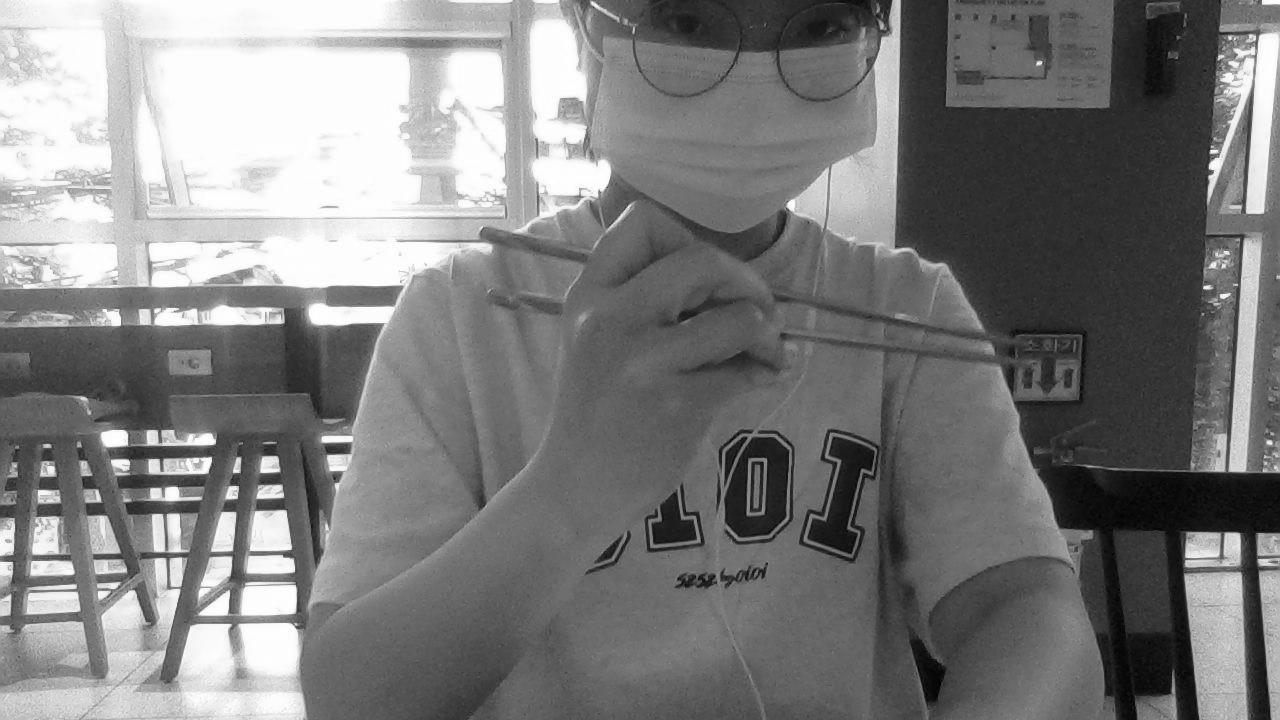chopstick: (480, 229, 1029, 349), (487, 290, 1031, 371)
hand: (538, 197, 789, 521)
